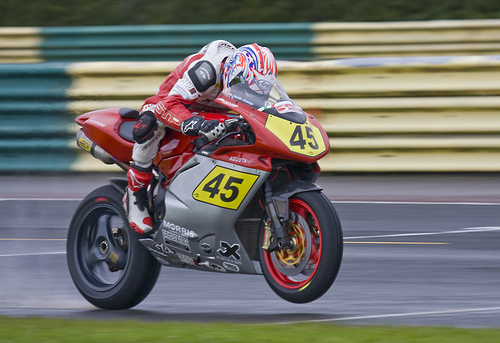helmet: (220, 45, 276, 103)
